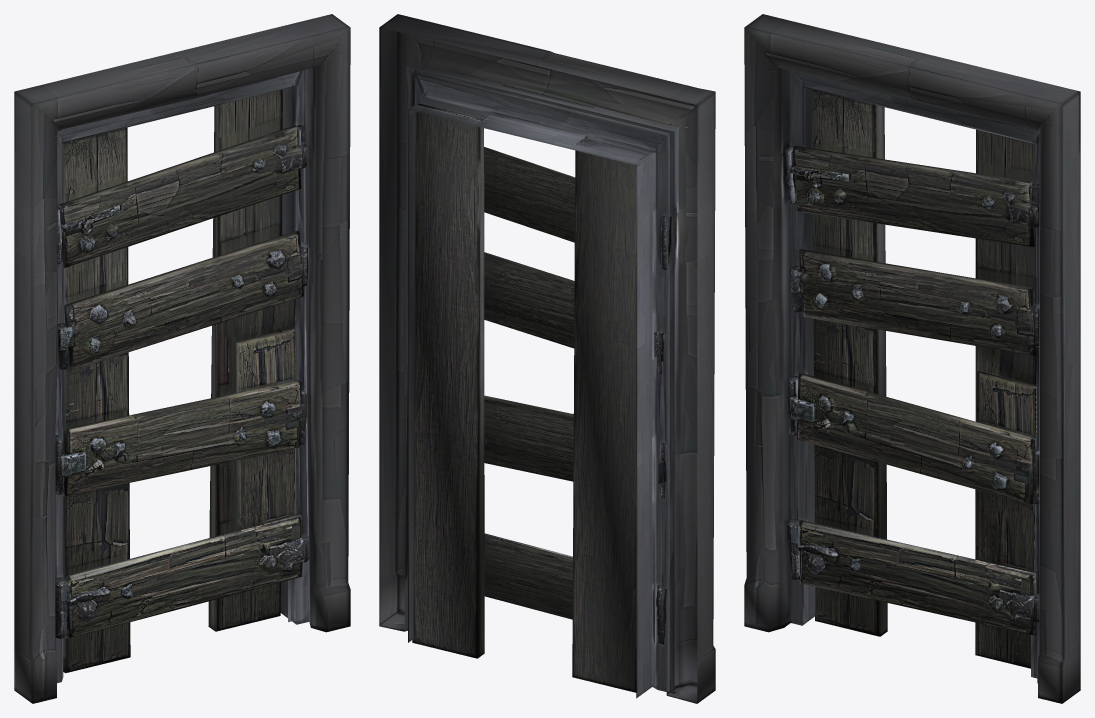
File: wooden+door+3d+model.glb
3 renders of one model, left to right at view 1: azimuth 30°, elevation 25°; view 2: azimuth 150°, elevation 25°; view 3: azimuth 330°, elevation 25°, orthographic.
Visible parts, largest first — view 1: tripo_node_d927ce68-e320-4847-b031-f5c064694275; view 2: tripo_node_d927ce68-e320-4847-b031-f5c064694275; view 3: tripo_node_d927ce68-e320-4847-b031-f5c064694275.
Boxes of the visible parts, x1,y1,x2,y2 form: tripo_node_d927ce68-e320-4847-b031-f5c064694275: (14,14,350,703); tripo_node_d927ce68-e320-4847-b031-f5c064694275: (379,14,715,703); tripo_node_d927ce68-e320-4847-b031-f5c064694275: (744,14,1080,703).
Size of the model in its own units: 0.5552 by 0.9995 by 0.0981.
Materials: 1 (1 with a texture image).
